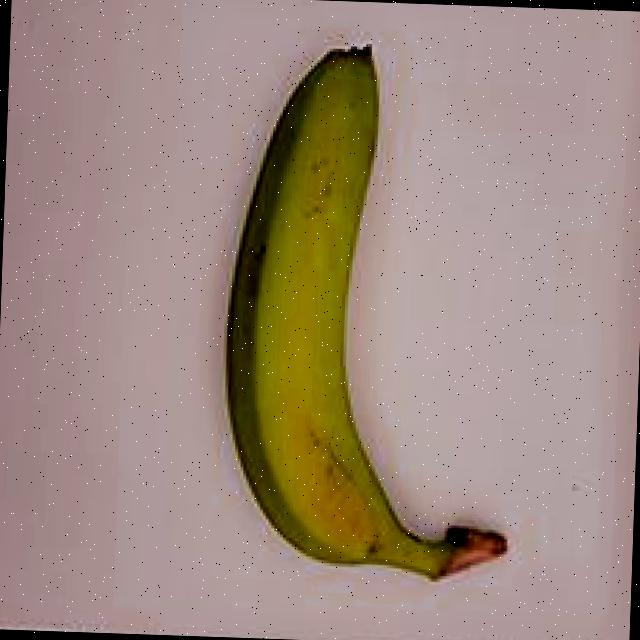Unripe: (177, 11, 546, 608)
